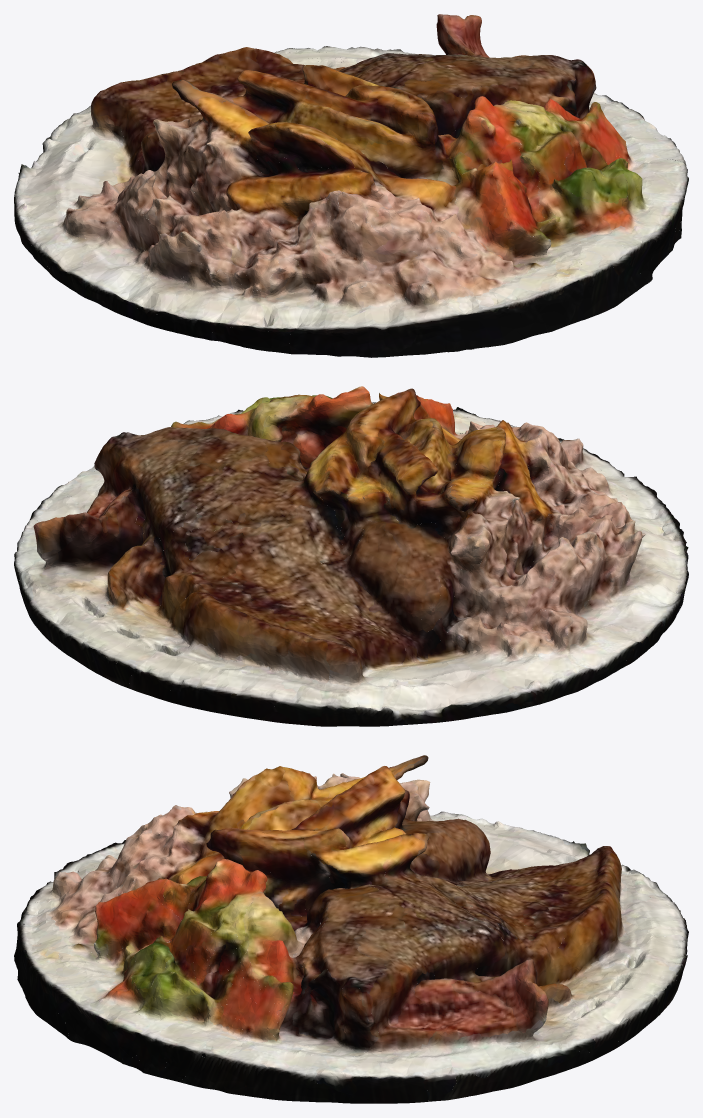
Rendered from bife-com-arroz.glb.
3 views of the same model, one above another, from view 1: azimuth 30°, elevation 25°; view 2: azimuth 150°, elevation 25°; view 3: azimuth 270°, elevation 25° (orthographic).
Parts seen in each view (by area): view 1: mesh_main_1, mesh_main_0, mesh_main_0_2; view 2: mesh_main_1, mesh_main_0, mesh_main_0_2; view 3: mesh_main_1, mesh_main_0, mesh_main_0_2.
Part boxes in pixels (x1=…): mesh_main_1: x1=15, y1=47, x2=687, y2=357; mesh_main_0: x1=14, y1=14, x2=688, y2=348; mesh_main_0_2: x1=49, y1=114, x2=641, y2=293; mesh_main_1: x1=14, y1=386, x2=687, y2=719; mesh_main_0: x1=17, y1=386, x2=688, y2=726; mesh_main_0_2: x1=201, y1=396, x2=645, y2=672; mesh_main_1: x1=14, y1=766, x2=688, y2=1103; mesh_main_0: x1=19, y1=755, x2=687, y2=1101; mesh_main_0_2: x1=186, y1=778, x2=519, y2=1040.
Size of the model in its own units: 0.2576 by 0.0655 by 0.2596.
1 material, 1 textured.
